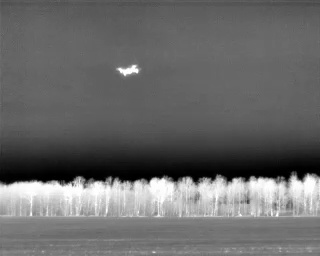DRONE: (113, 60, 144, 81)
